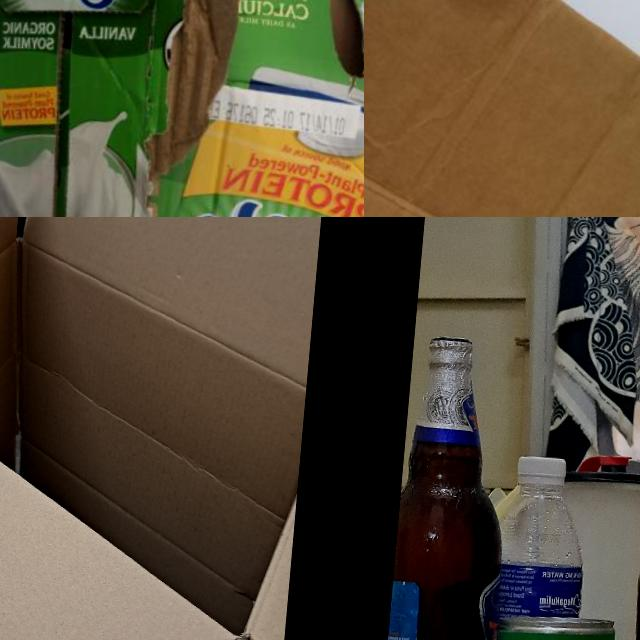garrafa de vidro: (381, 331, 517, 640)
garrafa plástica: (489, 479, 590, 627)
lata: (495, 608, 617, 640)
papelão: (0, 217, 323, 640), (0, 0, 364, 217), (364, 0, 640, 217)
tampa plástica: (516, 455, 566, 485)
